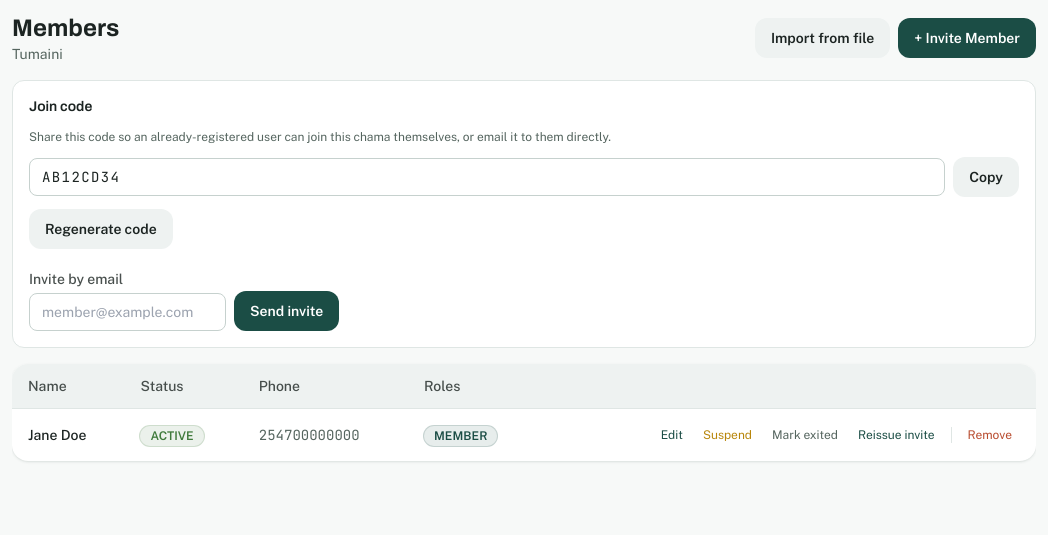
Test: MembersPage › shows an error notice when reissuing an invite fails
Expected: the text "Jane Doe" is shown, 28,427 -> 86,443
Click the button "Reissue invite" at (896, 435), box 850,421 -> 942,449
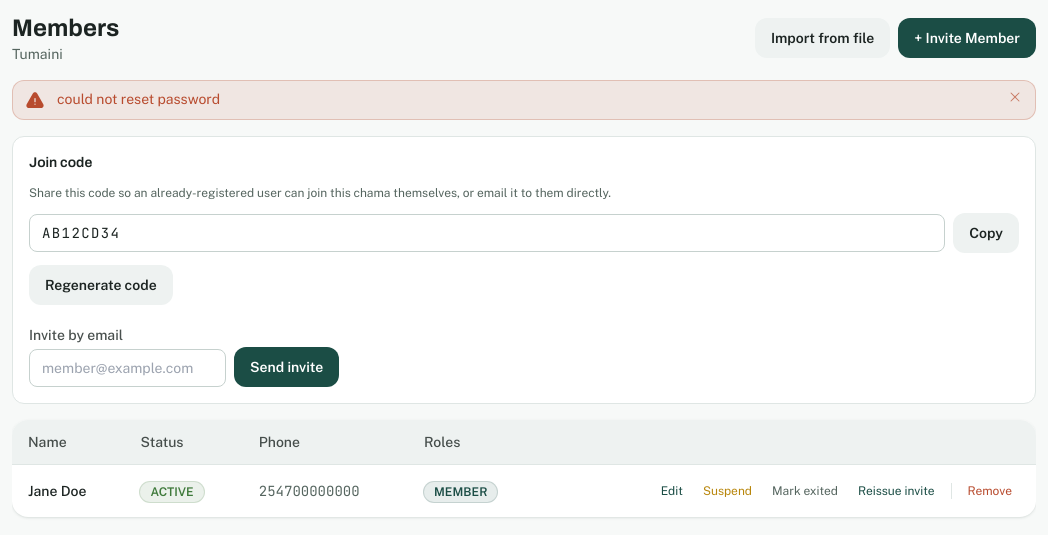
Now the text "could not reset password" is shown, box 57,91 -> 220,107
